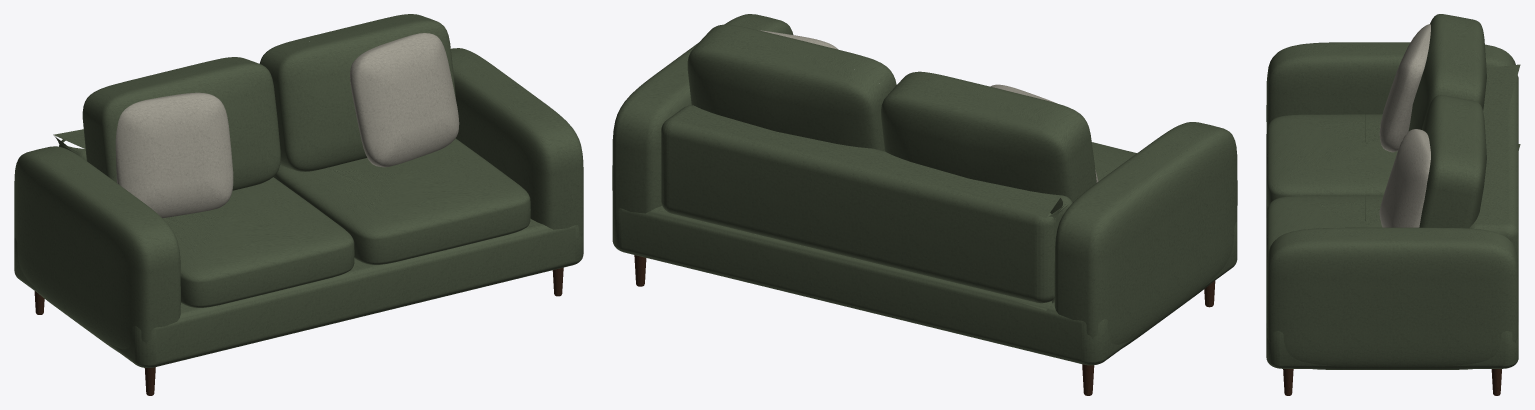
The model's file is milan-2.glb.
3 views of the same model, side by side, from view 1: azimuth 30°, elevation 25°; view 2: azimuth 150°, elevation 25°; view 3: azimuth 270°, elevation 25° (orthographic). The views are drawn at different scales.
Bounding box in the file's own units: 1.8 × 0.8667 × 0.9265.
3 materials, 3 textured.
